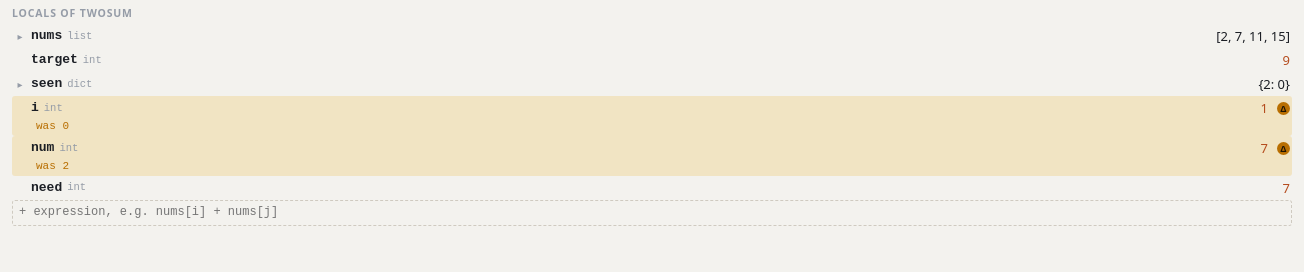
Scenario: Call stack and variables › hides an attribute-less self, and evaluates expressions added at the end of the list
Expected: the element with test id "var-nums" is shown, x1=12 y1=24 x2=1292 y2=48
Step 1. Type "nums[i] + 1" into the field with test id "watch-input" → (652, 213), box x1=12 y1=200 x2=1292 y2=226
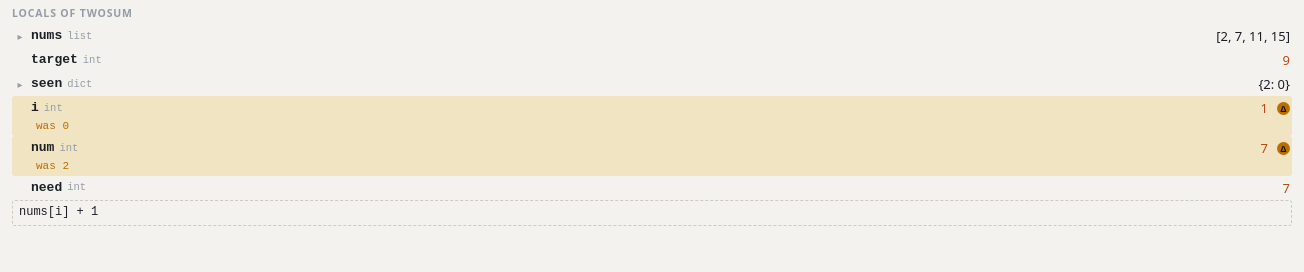
Step 2. Submit the form from the field with test id "watch-input", box x1=12 y1=200 x2=1292 y2=226
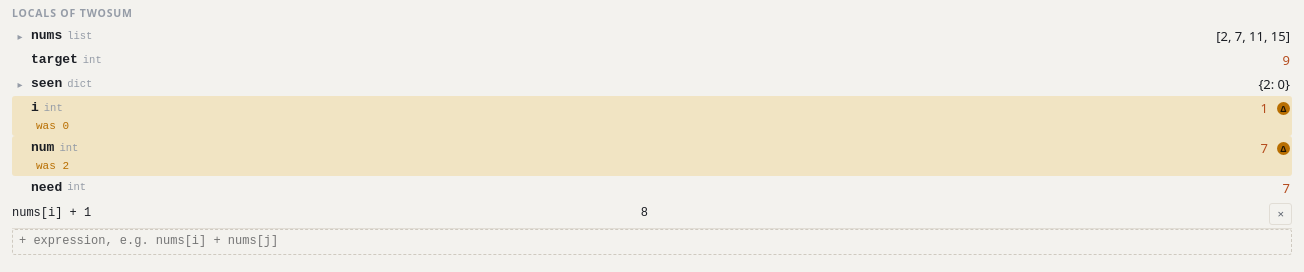
Expected: the element with test id "watch-row" shows "8", x1=641 y1=206 x2=648 y2=220
